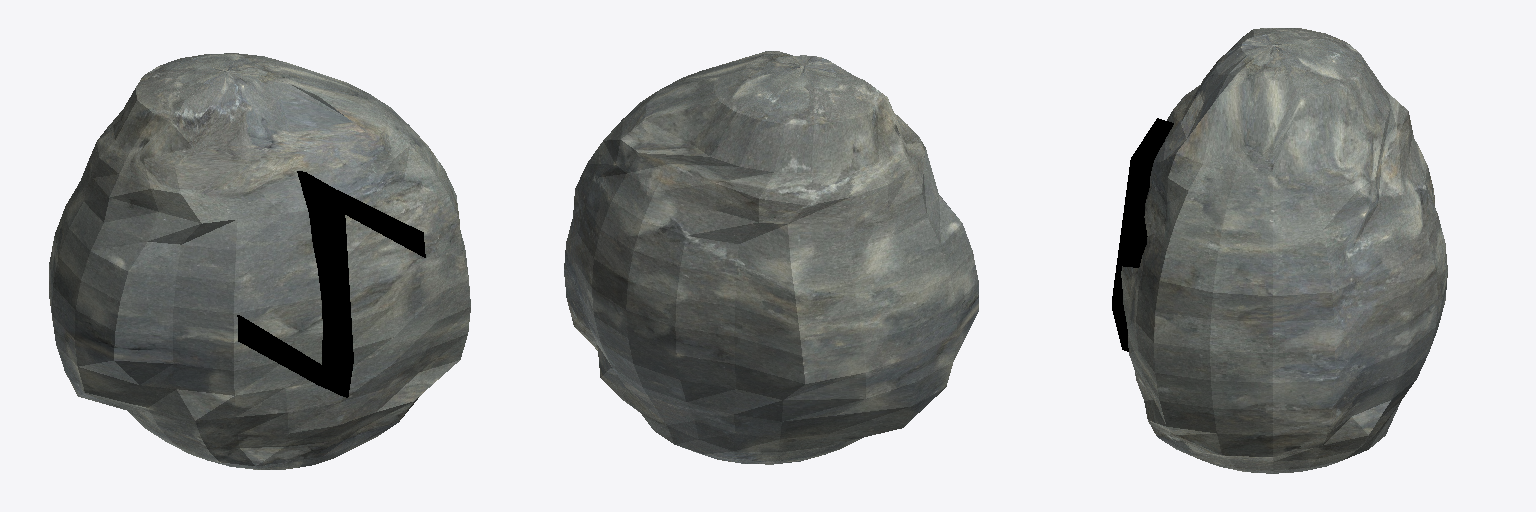
3 views of the same model, side by side, from view 1: azimuth 30°, elevation 25°; view 2: azimuth 150°, elevation 25°; view 3: azimuth 270°, elevation 25° (orthographic).
Parts seen in each view (by area): view 1: pSphere2; view 2: pSphere2; view 3: pSphere2.
Boxes of the visible parts, box(x1,y1,x2,y2) form: pSphere2: box(49, 53, 470, 469); pSphere2: box(564, 51, 978, 464); pSphere2: box(1112, 28, 1447, 473).
Size of the model in its own units: 5.13 by 5.16 by 4.03.
Materials: 2 (1 with a texture image).